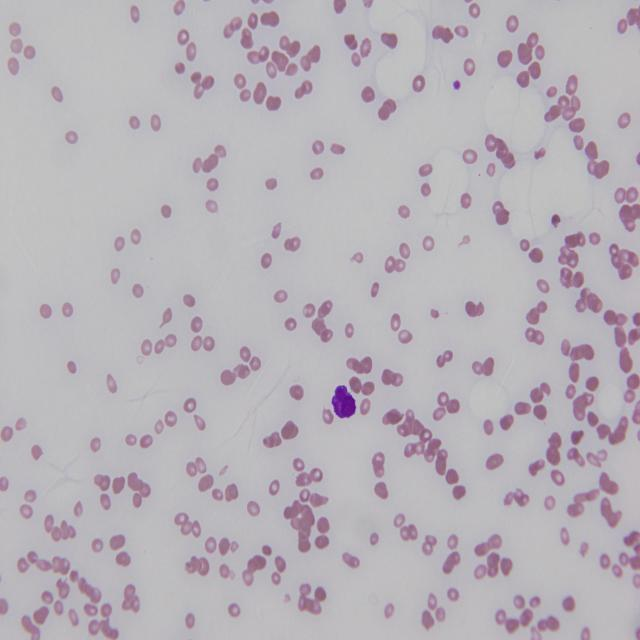cell: (331, 386, 356, 418)
